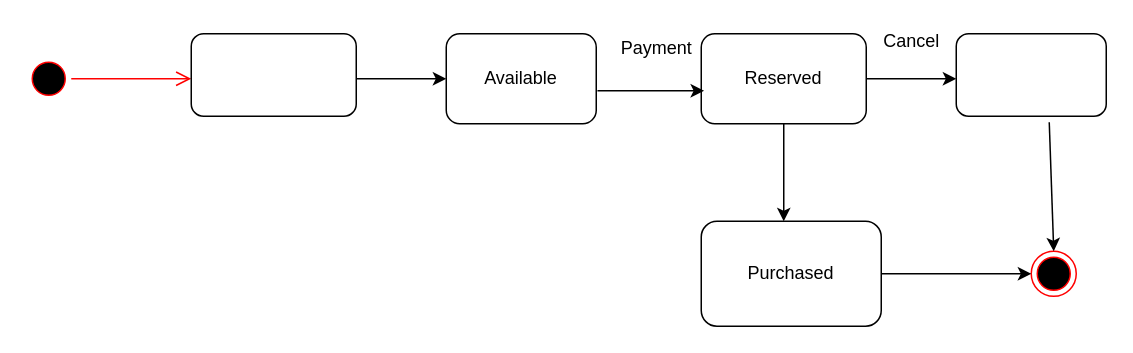
Image size: 1133x353. Some labels were removed from this diagram. The centre of each missing label's shape, as x and y in pixels:
"Refund" goes at [1030,74].
"Tickets" goes at [273,74].
